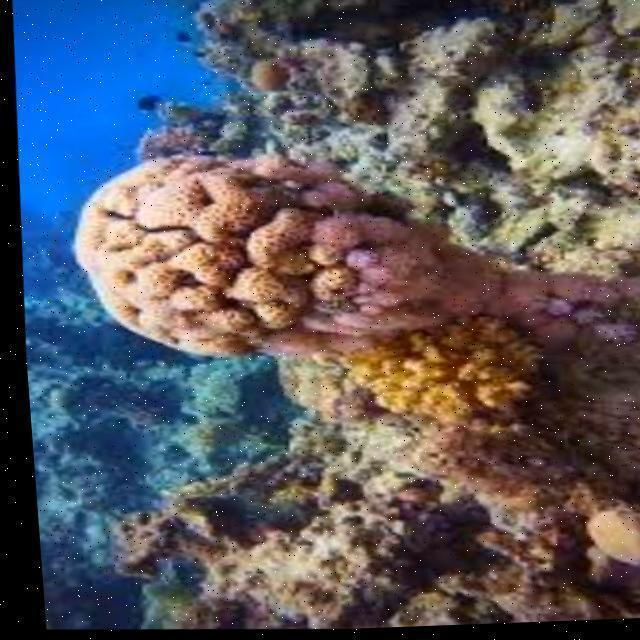Healthy Coral: (48, 110, 563, 493)
